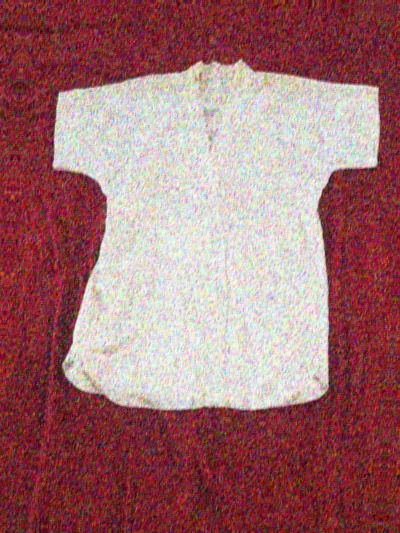Blouse: (27, 32, 388, 442)
